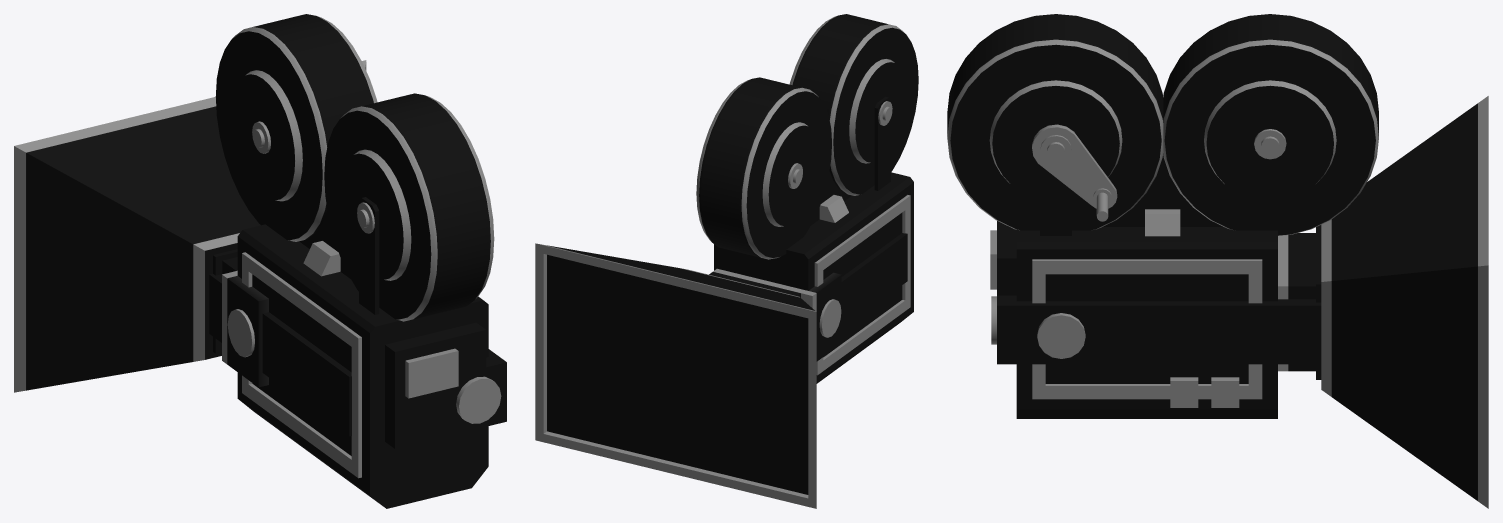
Rendered from camera.gltf.
3 renders of one model, left to right at view 1: azimuth 30°, elevation 25°; view 2: azimuth 150°, elevation 25°; view 3: azimuth 270°, elevation 25°, orthographic. The views are drawn at different scales.
Parts seen in each view (by area): view 1: Cube.003, Cylinder, Cube.002, Cylinder.006; view 2: Cube.003, Cylinder, Cube.002, Cylinder.006; view 3: Cylinder, Cube.003, Cube.002, Cylinder.006.
Boxes of the visible parts, x1,y1,x2,y2 form: Cube.003: [14, 60, 366, 392]; Cylinder: [215, 14, 494, 321]; Cube.002: [209, 197, 506, 508]; Cylinder.006: [227, 121, 501, 478]; Cube.003: [535, 243, 841, 508]; Cylinder: [696, 14, 918, 259]; Cube.002: [714, 96, 913, 383]; Cylinder.006: [788, 101, 910, 375]; Cylinder: [947, 14, 1378, 235]; Cube.003: [1278, 96, 1488, 508]; Cube.002: [997, 153, 1321, 418]; Cylinder.006: [990, 124, 1286, 407].
Size of the model in its own units: 0.8914 by 0.9723 by 1.2.
Materials: 2 (2 with a texture image).
